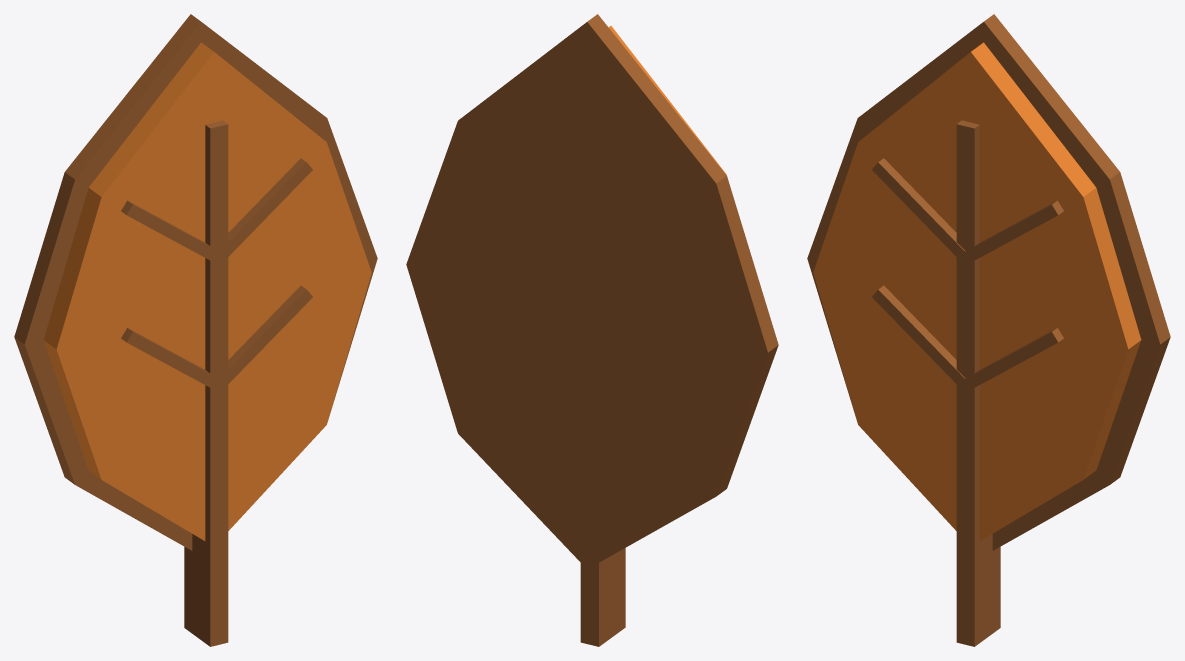
The model's file is icono_hoja.glb.
The picture shows the model from 3 angles, left to right: view 1: azimuth 30°, elevation 25°; view 2: azimuth 150°, elevation 25°; view 3: azimuth 330°, elevation 25°; orthographic projection. The views are drawn at different scales.
Visible parts, largest first — view 1: icono_hoja_otono_naranja, icono_hoja_otono_marron; view 2: icono_hoja_otono_marron; view 3: icono_hoja_otono_naranja, icono_hoja_otono_marron.
Boxes of the visible parts, x1,y1,x2,y2 form: icono_hoja_otono_naranja: (43,42,371,540); icono_hoja_otono_marron: (14,14,377,646); icono_hoja_otono_marron: (406,14,778,646); icono_hoja_otono_naranja: (813,42,1141,540); icono_hoja_otono_marron: (807,14,1170,646).
Bounding box in the file's own units: 0.784 × 1.29 × 0.112.
